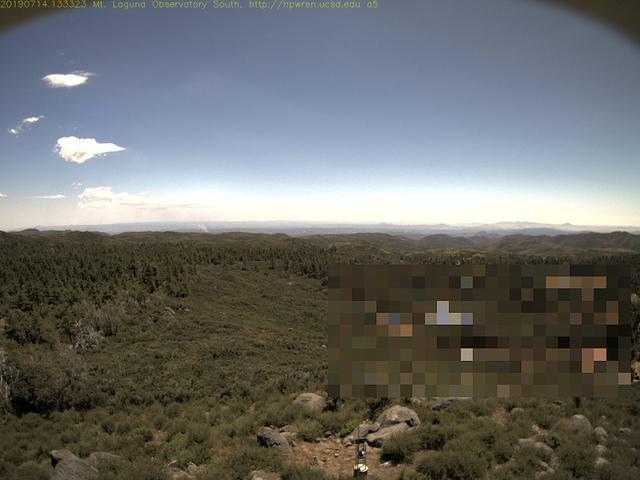smoke: (188, 215, 212, 235)
